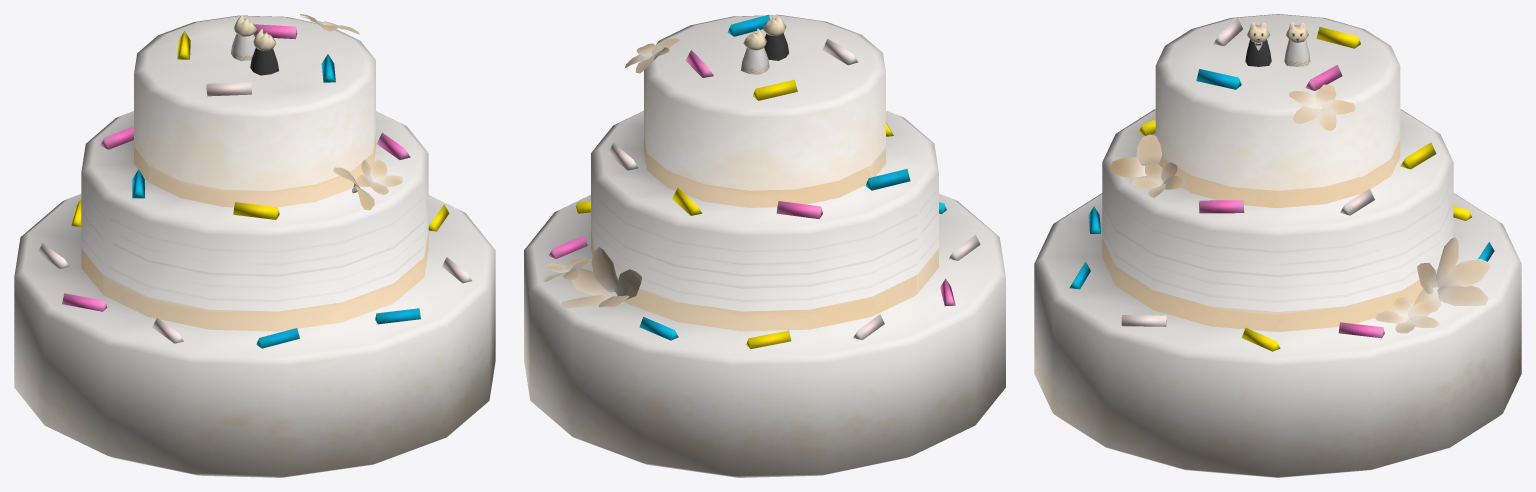
File: cakeSprinkle.gltf
The picture shows the model from 3 angles, left to right: view 1: azimuth 30°, elevation 25°; view 2: azimuth 150°, elevation 25°; view 3: azimuth 270°, elevation 25°; orthographic projection.
Parts seen in each view (by area): view 1: Blue Sprinkle; view 2: Blue Sprinkle; view 3: Blue Sprinkle.
Part boxes in pixels (box(x1,y1,x2,y2)): Blue Sprinkle: box(14, 14, 495, 477); Blue Sprinkle: box(524, 14, 1005, 477); Blue Sprinkle: box(1034, 14, 1521, 477).
Bounding box in the file's own units: 1.82 × 1.47 × 1.82.
